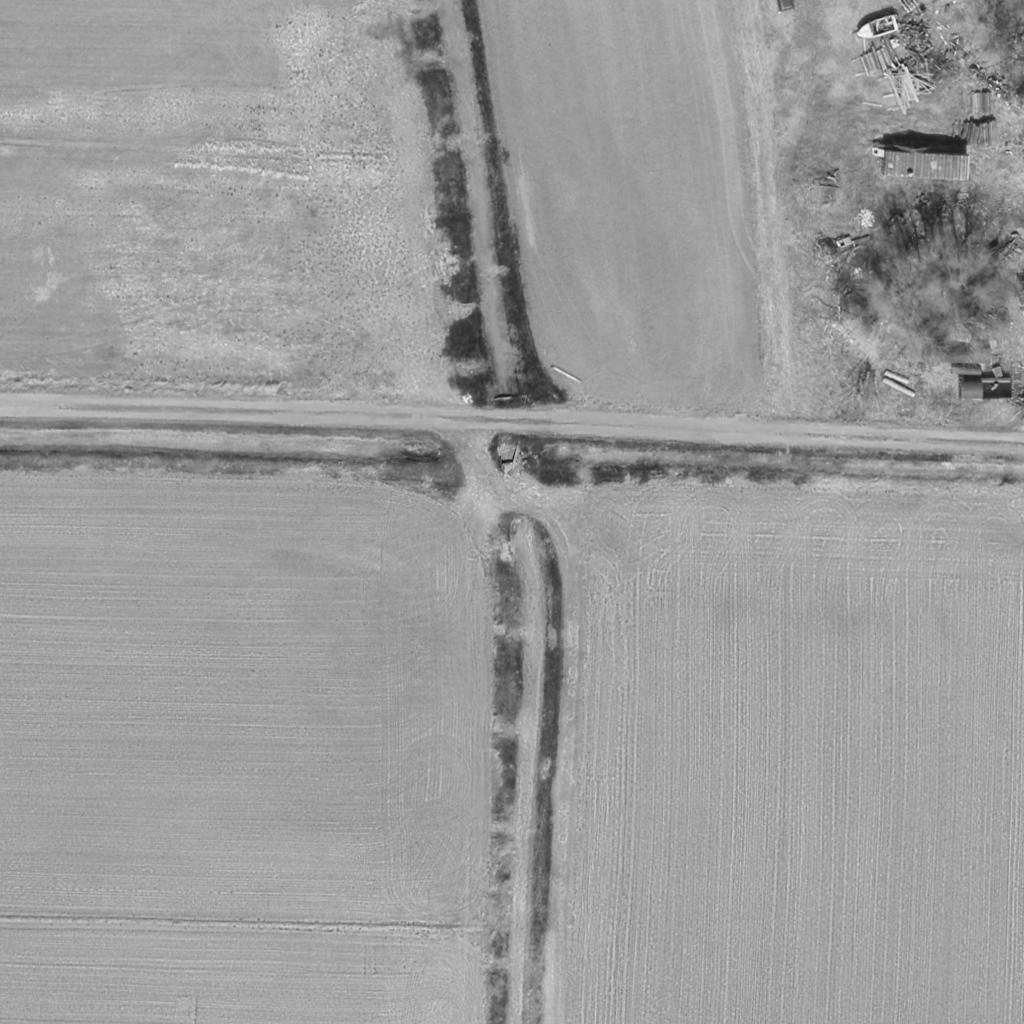vehicle: (850, 14, 900, 42)
